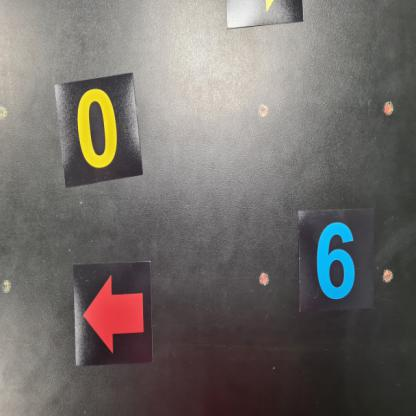0: (53, 73, 144, 188)
6: (298, 207, 376, 313)
left: (73, 261, 154, 367)
